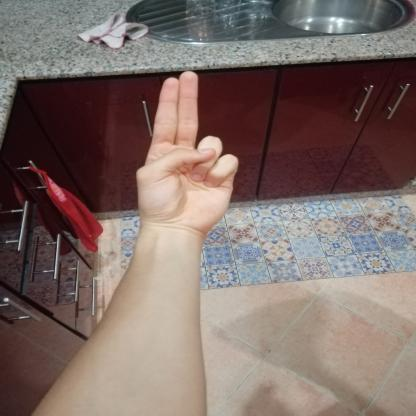TA: (119, 58, 248, 236)
